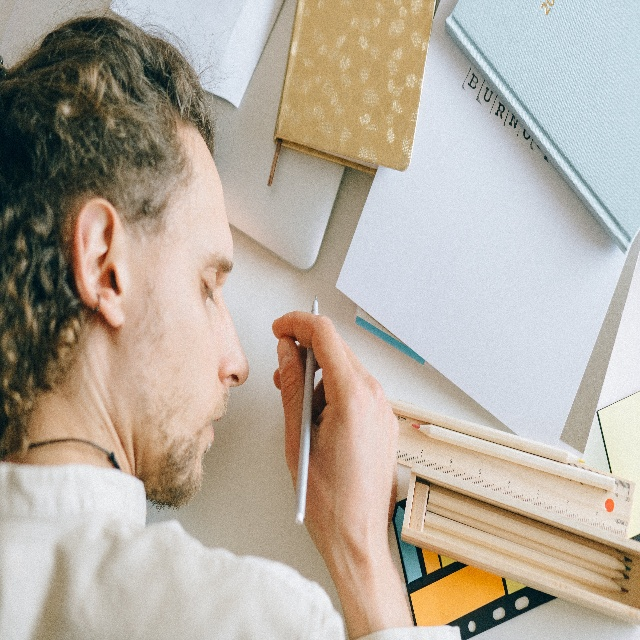Sin_guantes: (271, 305, 398, 575)
